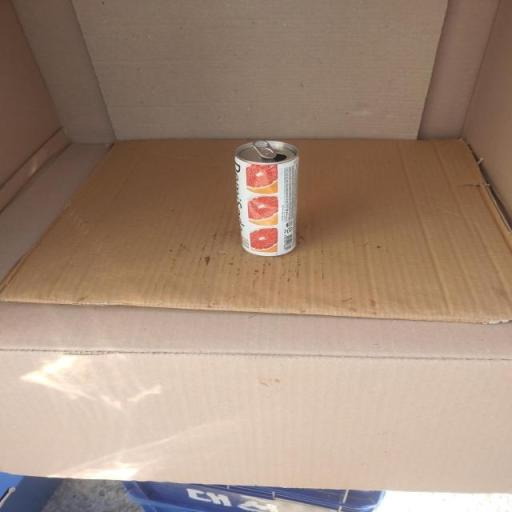metal: (201, 123, 326, 270)
